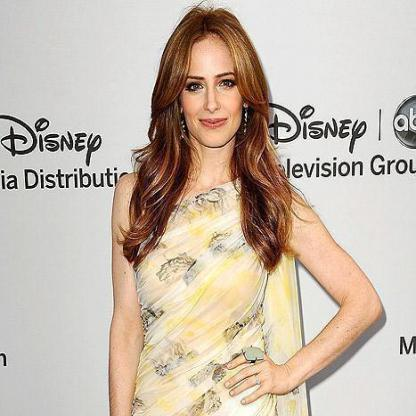long-hair: (120, 147, 301, 187)
